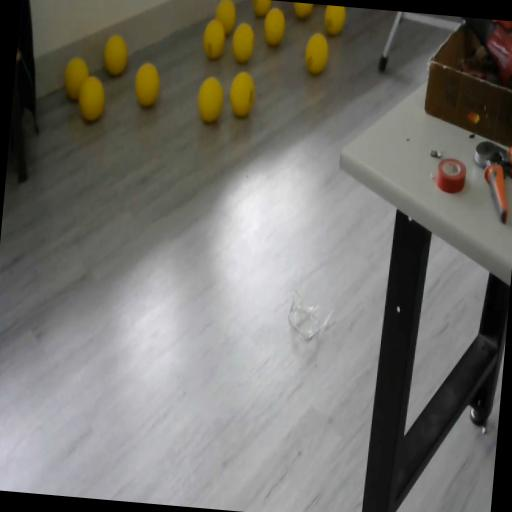FUEL: (195, 74, 226, 125), (76, 74, 108, 122), (227, 68, 257, 118), (132, 60, 162, 108), (101, 32, 130, 78), (303, 30, 331, 76), (230, 20, 256, 64), (261, 5, 287, 47), (212, 0, 237, 35), (324, 5, 346, 36), (292, 2, 314, 20), (251, 0, 271, 17)
